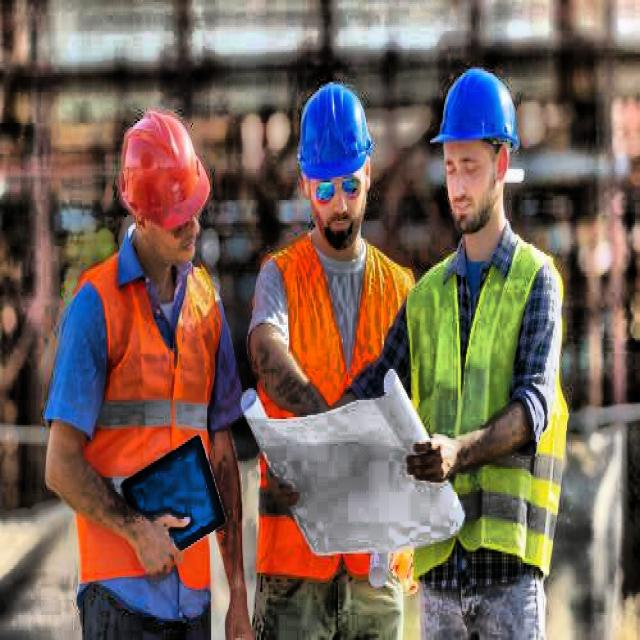helmet: (110, 92, 222, 277), (278, 59, 380, 260), (424, 54, 526, 252)
